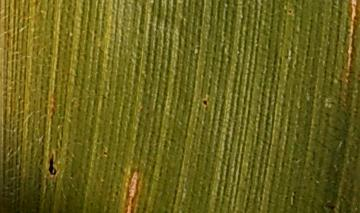tarspot: (47, 153, 57, 175), (323, 202, 337, 211), (202, 99, 208, 106)
